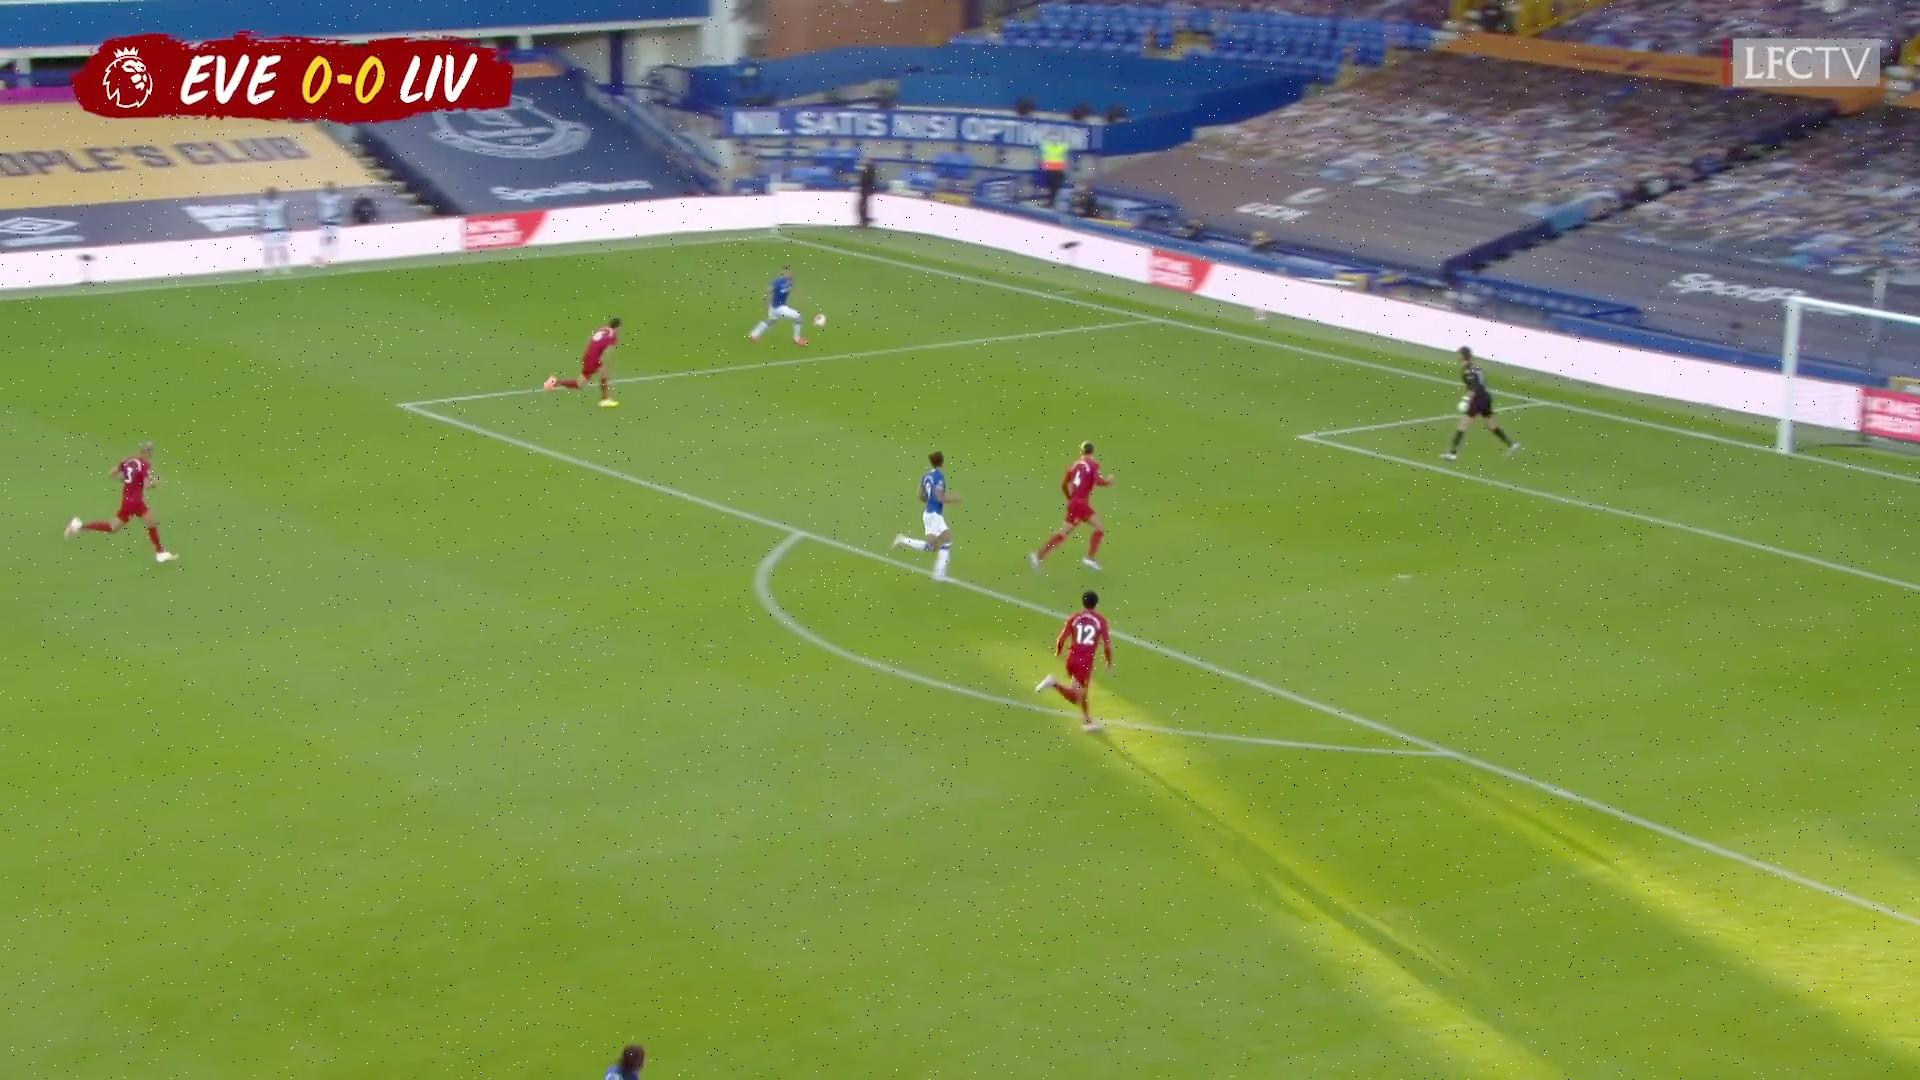ball: (812, 314, 828, 330)
